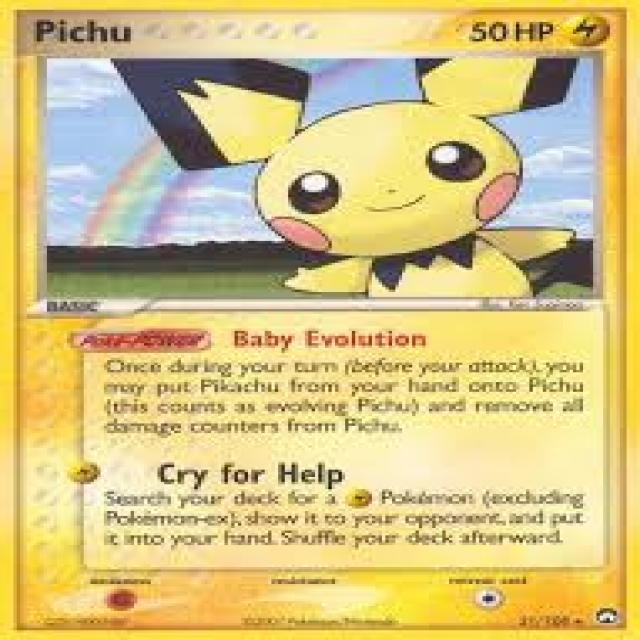pichu: (92, 52, 582, 297)
